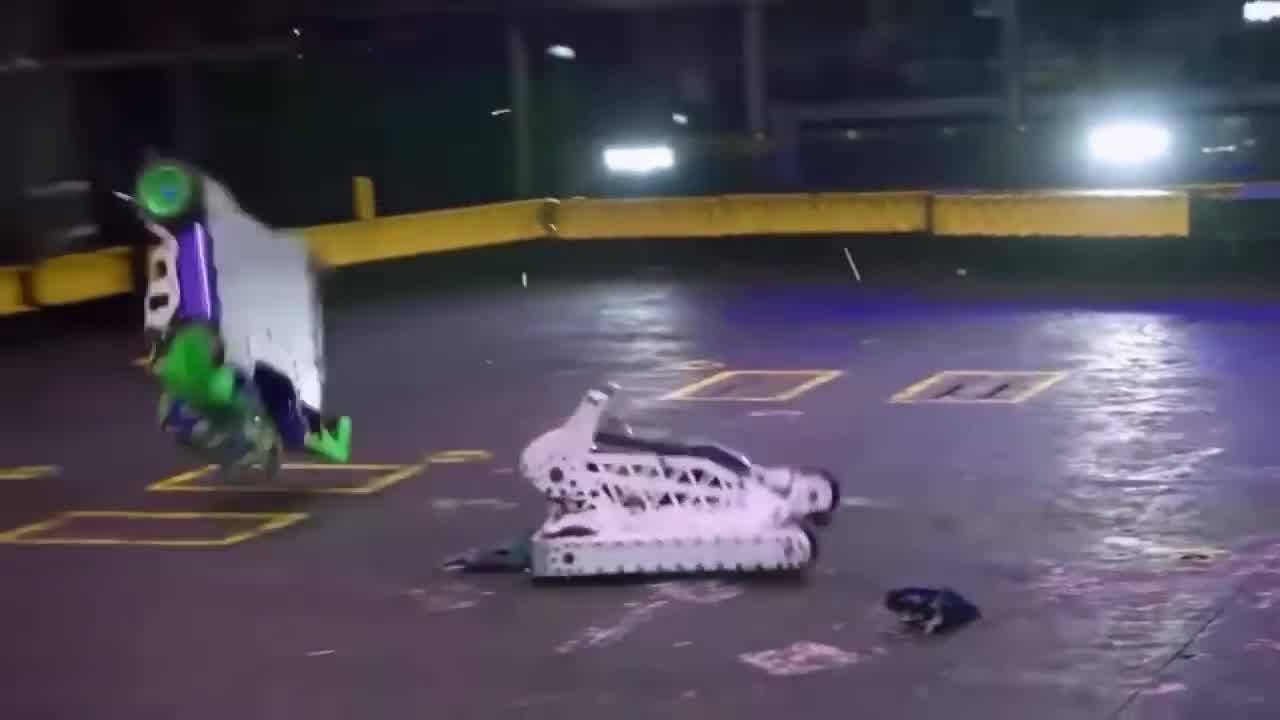combatbot: (515, 384, 838, 586), (131, 161, 328, 475)
debris: (881, 589, 970, 631)
